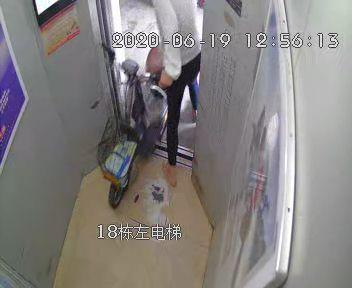Electric-bicycle: (92, 43, 174, 202)
